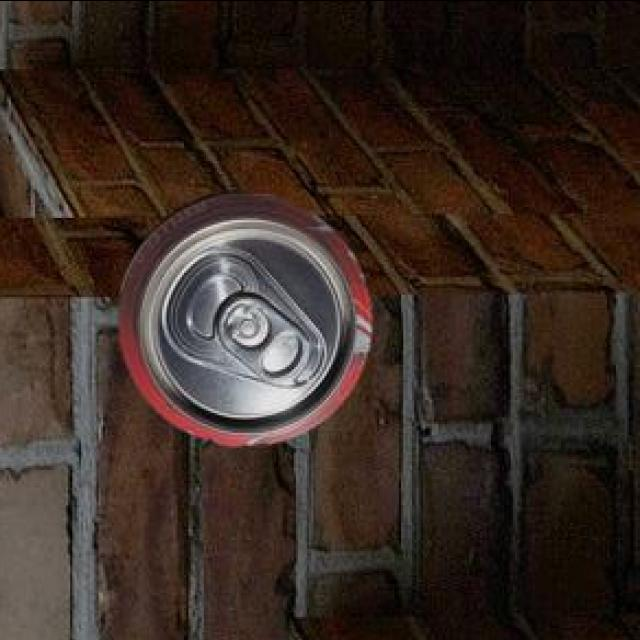logam: (117, 187, 367, 442)
